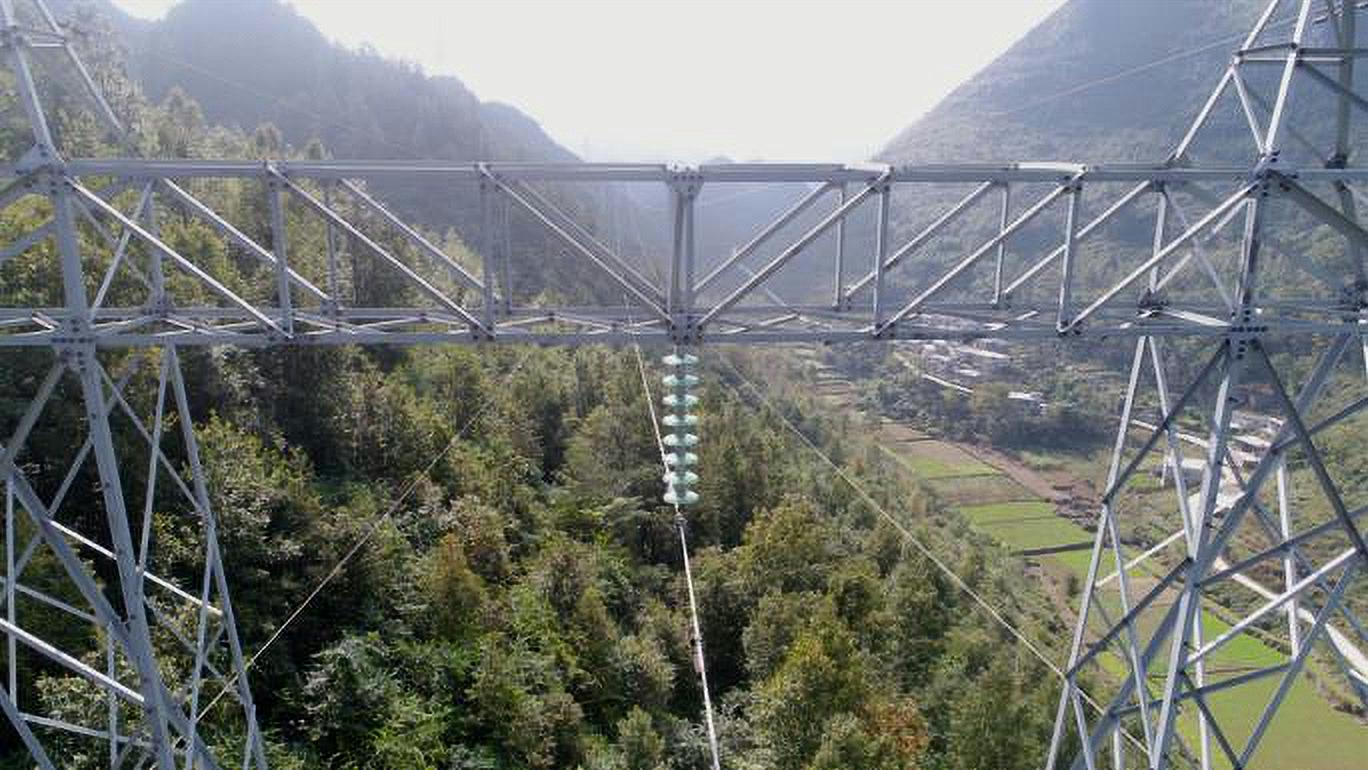insulator: (657, 350, 704, 509)
